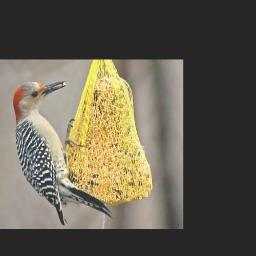Woodpecker: (0, 75, 118, 224)
